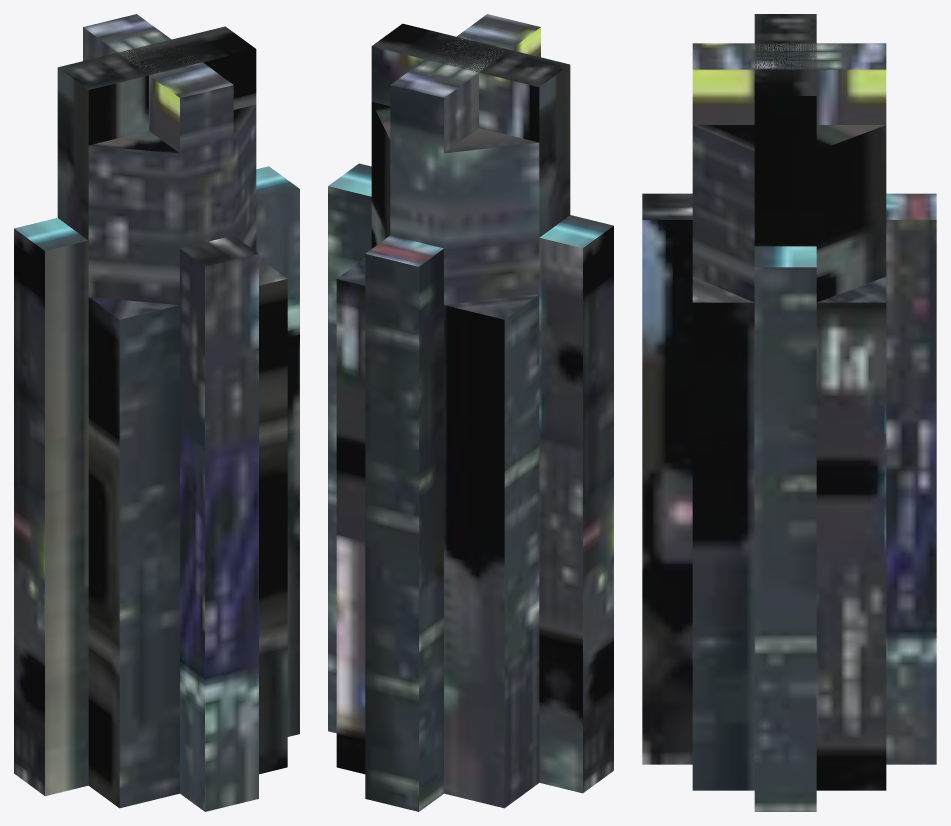
File: night-7.glb
3 views of the same model, side by side, from view 1: azimuth 30°, elevation 25°; view 2: azimuth 150°, elevation 25°; view 3: azimuth 270°, elevation 25° (orthographic).
Size of the model in its own units: 4.19 by 10.93 by 4.19.
1 material, 1 textured.
